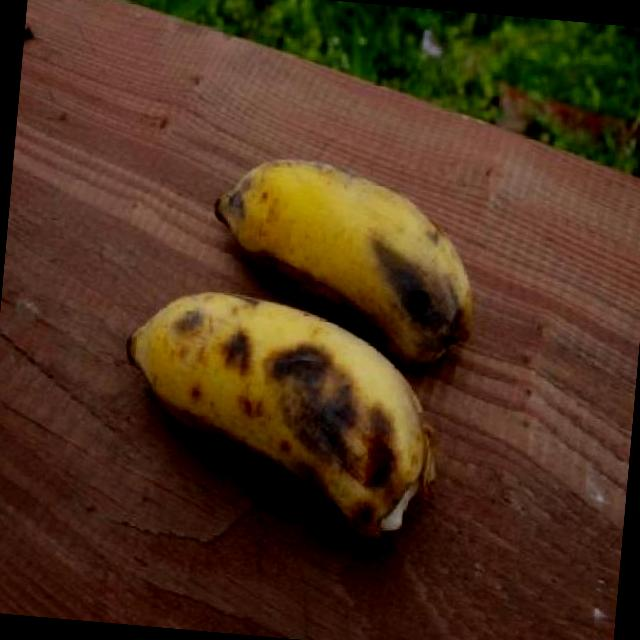Banana: (108, 286, 450, 550), (201, 158, 487, 368)
